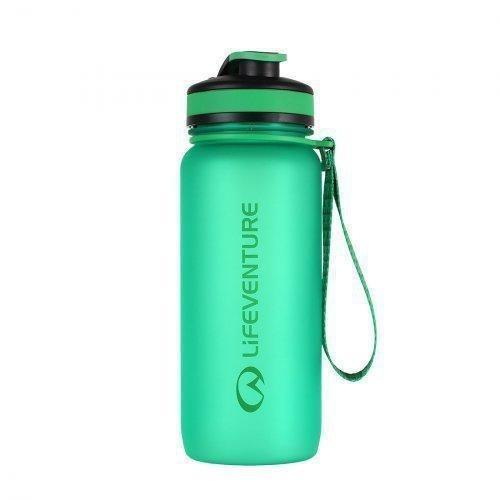gym bottle: (177, 48, 328, 468)
